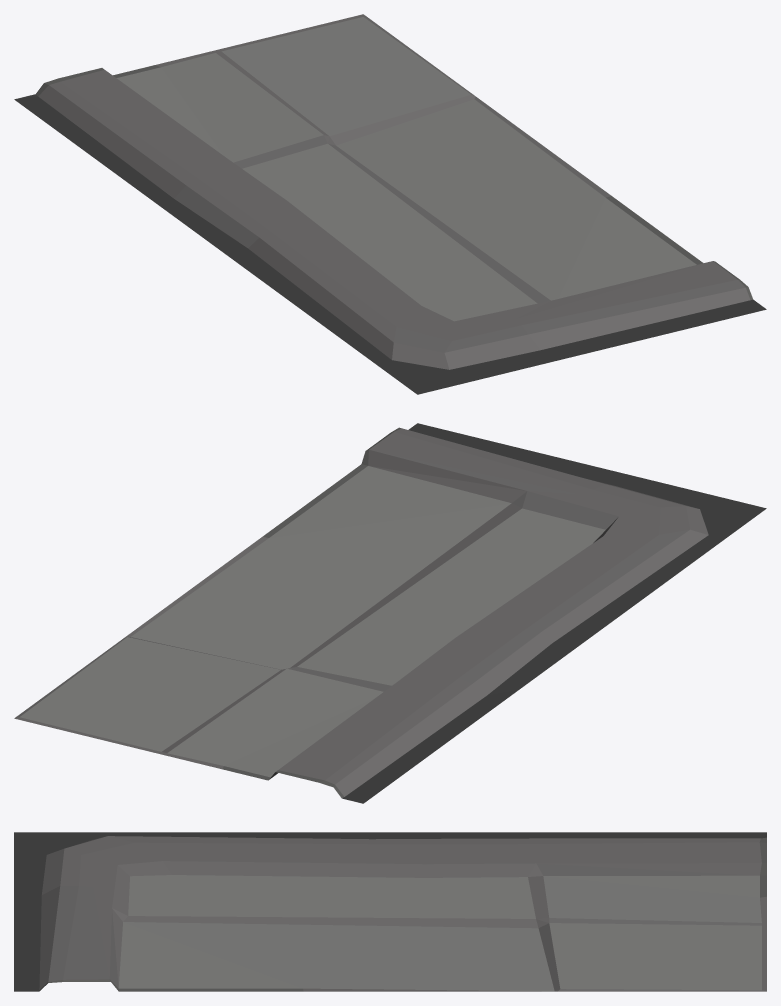
File: SM_Env_Sidewalk_Corner_Half_01.fbx
The picture shows the model from 3 angles, top to bottom: view 1: azimuth 30°, elevation 25°; view 2: azimuth 150°, elevation 25°; view 3: azimuth 270°, elevation 25°; orthographic projection. The views are drawn at different scales.
Parts seen in each view (by area): view 1: SM_Env_Sidewalk_Corner_Half_01; view 2: SM_Env_Sidewalk_Corner_Half_01; view 3: SM_Env_Sidewalk_Corner_Half_01.
Part boxes in pixels (x1,y1,x2,y2): SM_Env_Sidewalk_Corner_Half_01: (14, 14, 766, 394); SM_Env_Sidewalk_Corner_Half_01: (14, 423, 766, 803); SM_Env_Sidewalk_Corner_Half_01: (14, 832, 766, 991).
Size of the model in its own units: 250 by 11.6 by 500.
